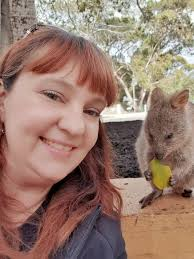quokka: (126, 77, 194, 211)
